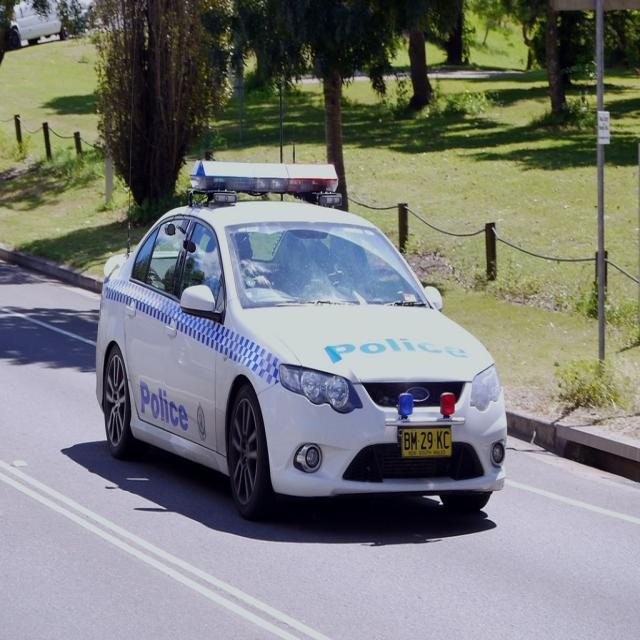car: (86, 186, 516, 532)
